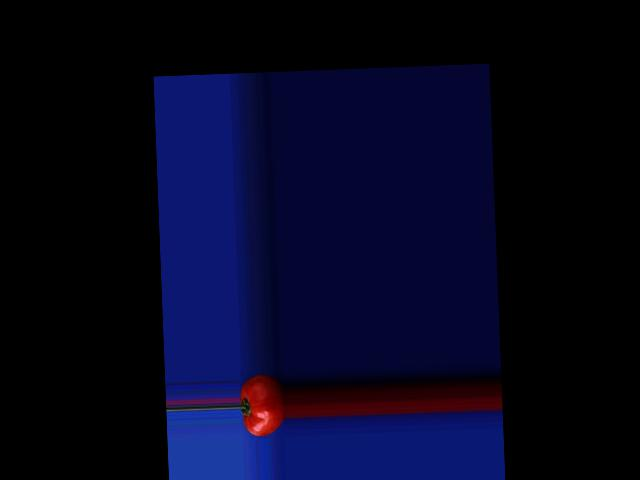tomato: (238, 373, 286, 436)
